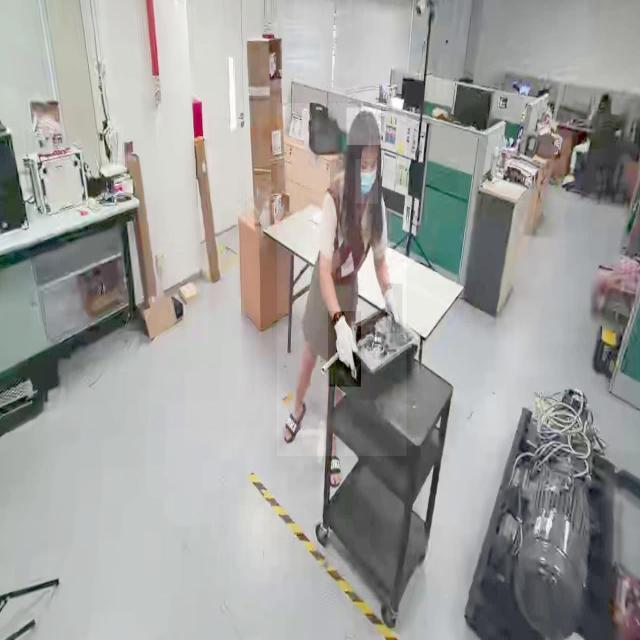face_mask: (356, 159, 378, 204)
hand_glove: (328, 311, 362, 388), (385, 284, 403, 334)
head_nohelmet: (346, 108, 382, 146)
person: (277, 103, 407, 457)
